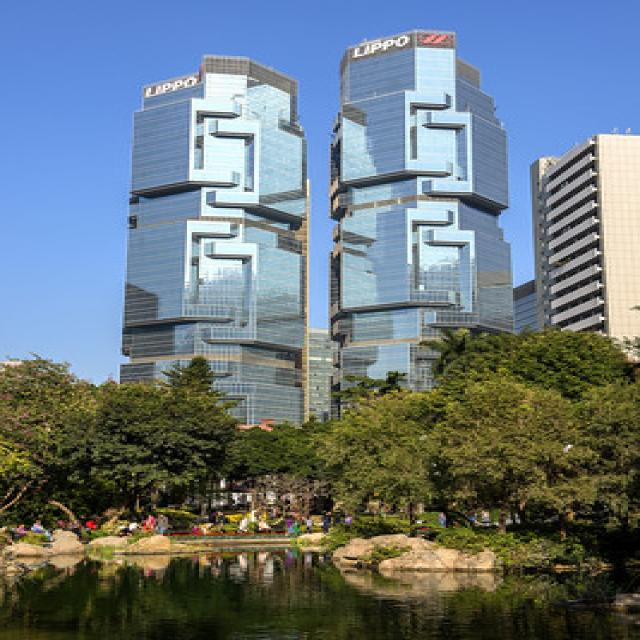Normal_building: (121, 51, 313, 450), (324, 32, 520, 422)
